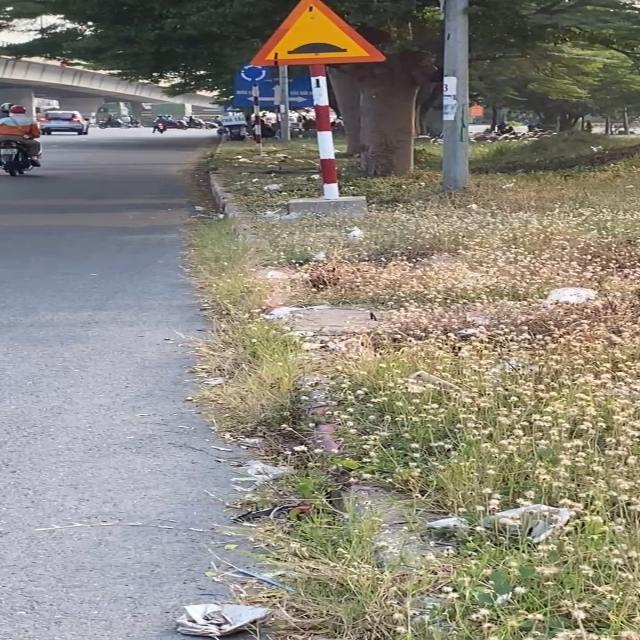221-duong-go-ghe: (246, 0, 386, 68)
303-noi-giao-nhau-chay-theo-vong-xuyen: (238, 62, 270, 82)
